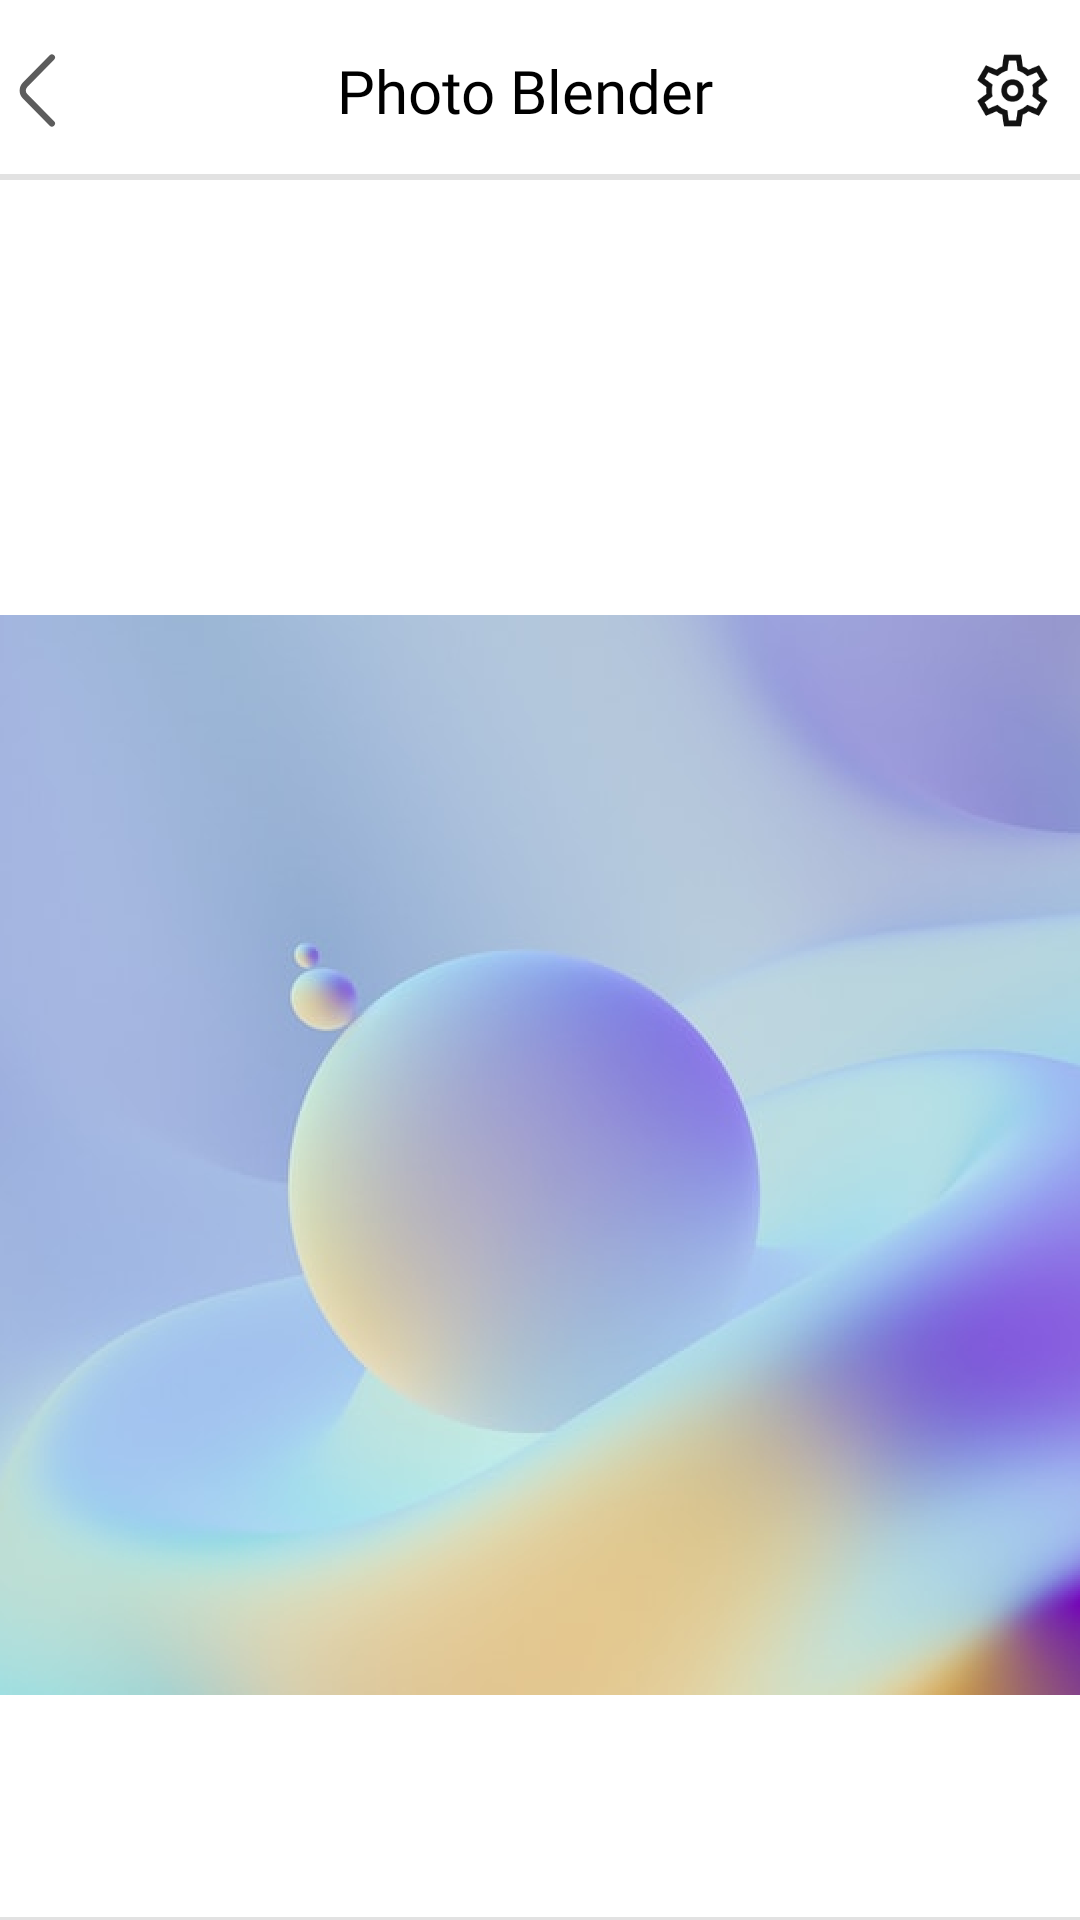

Icons on this 1080 x 1920 Android screen, each with its box as {"x1": x1, "y1": y1, "x2": x2, "y2": y2}:
left: {"x1": 19, "y1": 54, "x2": 55, "y2": 127}
settings: {"x1": 977, "y1": 54, "x2": 1048, "y2": 127}
